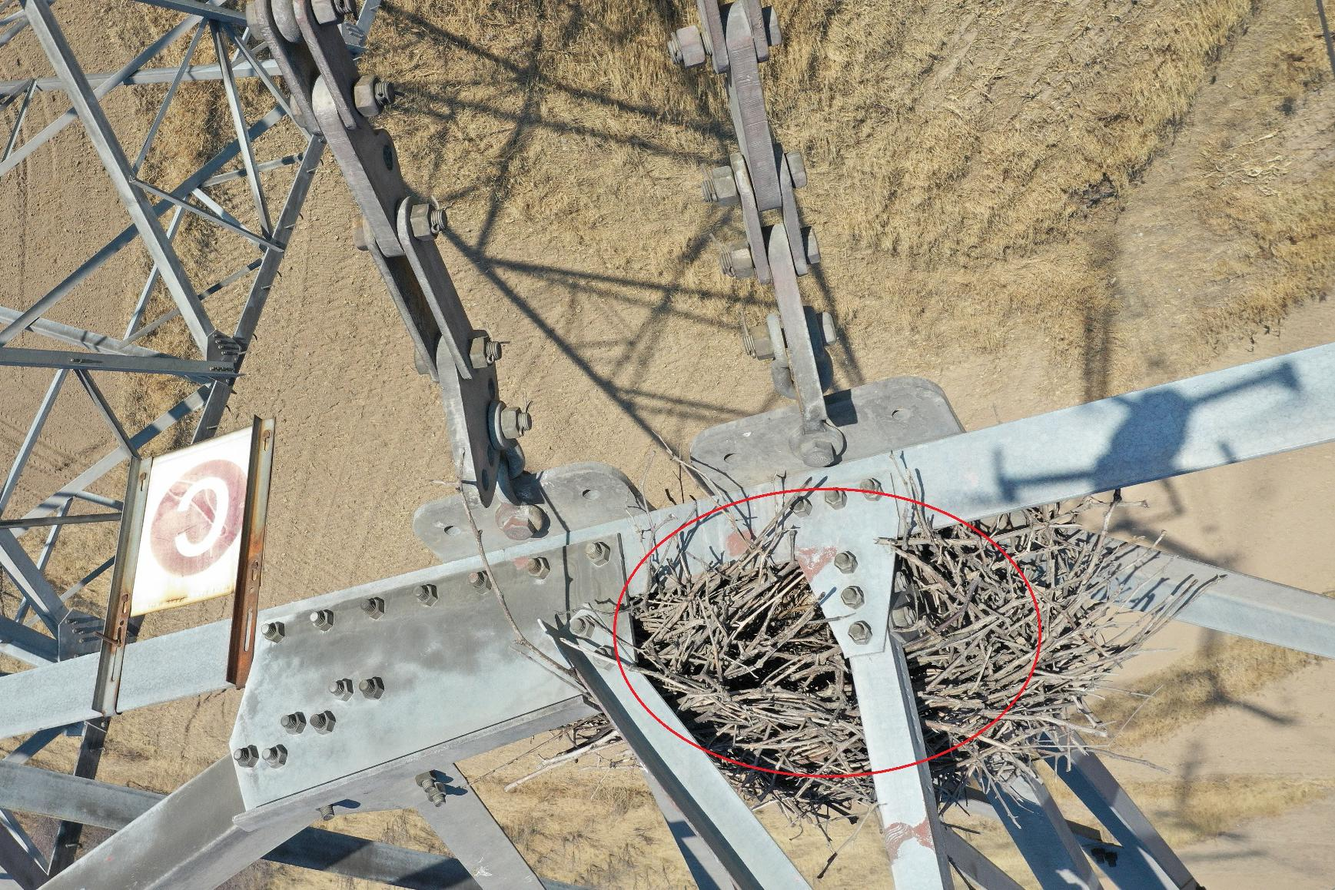nest: (615, 483, 1195, 823)
